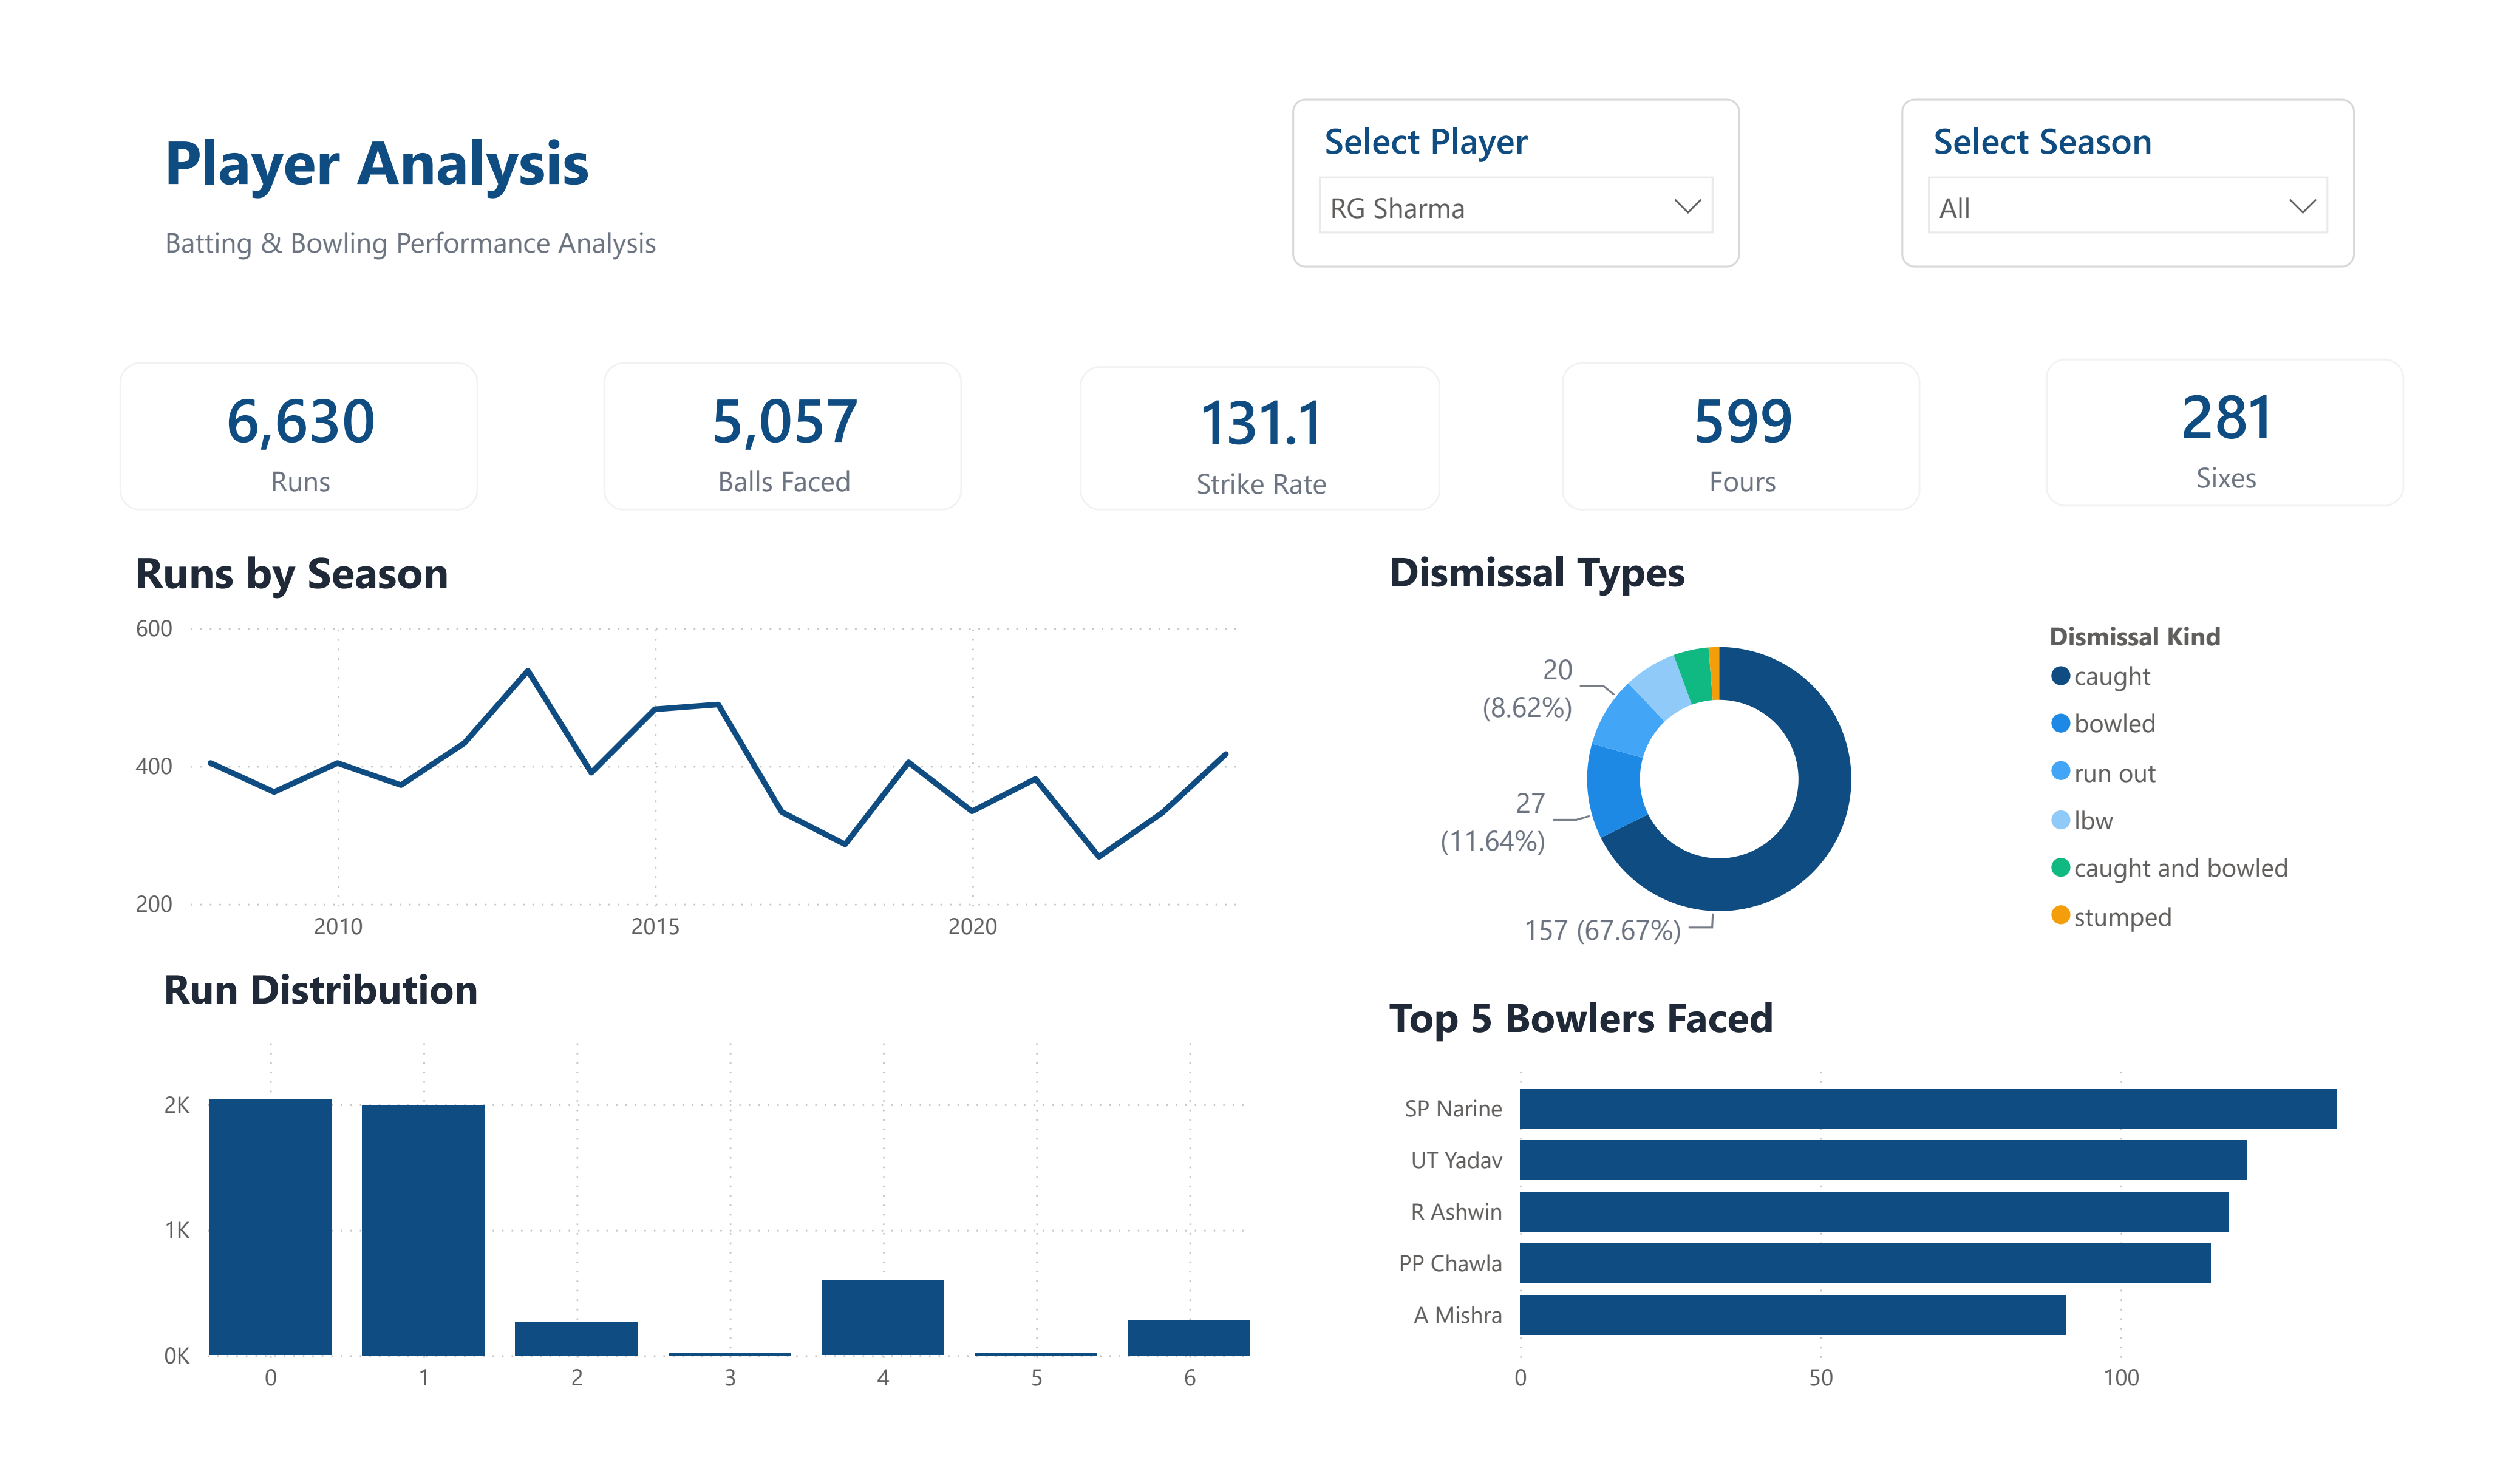

The dashboard page shown, as its layout file describes it:
{"tool":"powerbi","page":{"name":"Player Analysis","canvas":[1280,720],"ordinal":2},"visuals":[{"type":"textbox","box":[56.7,33.3,235,55],"z":0},{"type":"textbox","box":[56.7,88.3,271.7,30],"z":1000},{"type":"slicer","fields":{"Values":["deliveries_clean.batter"]},"box":[656.7,28.3,236.7,88.3],"z":2000},{"type":"slicer","fields":{"Values":["Dim Date.Year"]},"box":[978.3,28.3,238.3,88.3],"z":3000},{"type":"cardVisual","fields":{"Data":["_Measures.Player Runs"]},"box":[21.7,150,223.3,111.7],"z":4000},{"type":"cardVisual","fields":{"Data":["_Measures.Strike Rate"]},"box":[528.3,151.7,223.3,110],"z":5000},{"type":"cardVisual","fields":{"Data":["_Measures.Balls Faced"]},"box":[276.7,150,223.3,111.7],"z":6000},{"type":"cardVisual","fields":{"Data":["_Measures.Player Sixes"]},"box":[1036.7,148.3,223.3,111.7],"z":7000},{"type":"cardVisual","fields":{"Data":["_Measures.Player Fours"]},"box":[781.7,150,223.3,111.7],"z":8000},{"type":"lineChart","title":"Runs by Season","fields":{"Category":["Dim Date.Year"],"Y":["_Measures.Player Runs"]},"box":[41.7,261.7,598.3,220],"z":9000},{"type":"donutChart","title":"Dismissal Types","fields":{"Category":["deliveries_clean.dismissal_kind"],"Y":["CountNonNull(deliveries_clean.player_dismissed)"]},"box":[703.3,261.7,493.3,220],"z":10000},{"type":"clusteredColumnChart","title":"Run Distribution","fields":{"Category":["deliveries_clean.batsman_runs"],"Y":["CountNonNull(deliveries_clean.ball)"]},"box":[56.7,481.7,583.3,238.3],"z":11000},{"type":"clusteredBarChart","title":"Top 5 Bowlers Faced","fields":{"Category":["deliveries_clean.bowler"],"Y":["CountNonNull(deliveries_clean.ball)"]},"box":[703.3,496.7,531.7,223.3],"z":12000}]}

Visuals, with their boxes on the page's 1280x720 design canvas (x1, y1, x2, y2). These are canvas units, not pixel positions in the 2520x1457 screenshot, which may show the page scaled, cropped or inside an application window:
textbox: [57,33,292,88]
textbox: [57,88,328,118]
slicer - deliveries_clean.batter: [657,28,893,117]
slicer - Dim Date.Year: [978,28,1217,117]
cardVisual - _Measures.Player Runs: [22,150,245,262]
cardVisual - _Measures.Strike Rate: [528,152,752,262]
cardVisual - _Measures.Balls Faced: [277,150,500,262]
cardVisual - _Measures.Player Sixes: [1037,148,1260,260]
cardVisual - _Measures.Player Fours: [782,150,1005,262]
"Runs by Season" lineChart: [42,262,640,482]
"Dismissal Types" donutChart: [703,262,1197,482]
"Run Distribution" clusteredColumnChart: [57,482,640,720]
"Top 5 Bowlers Faced" clusteredBarChart: [703,497,1235,720]
